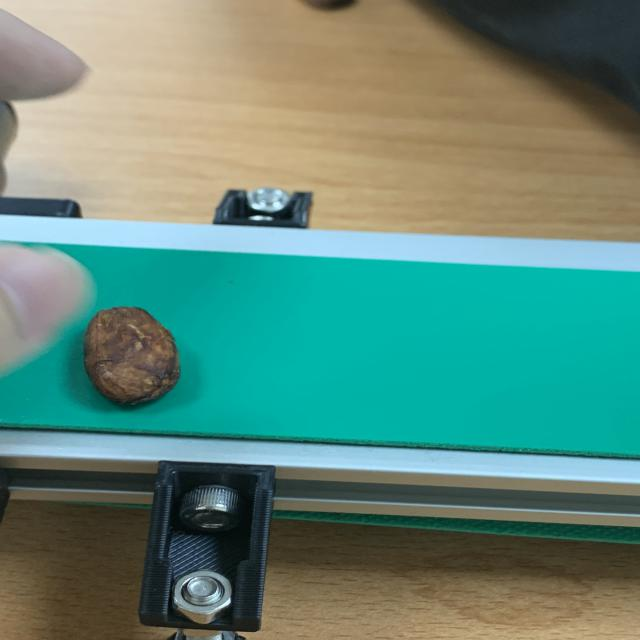Fine_cocoabeans: (71, 262, 220, 438)
